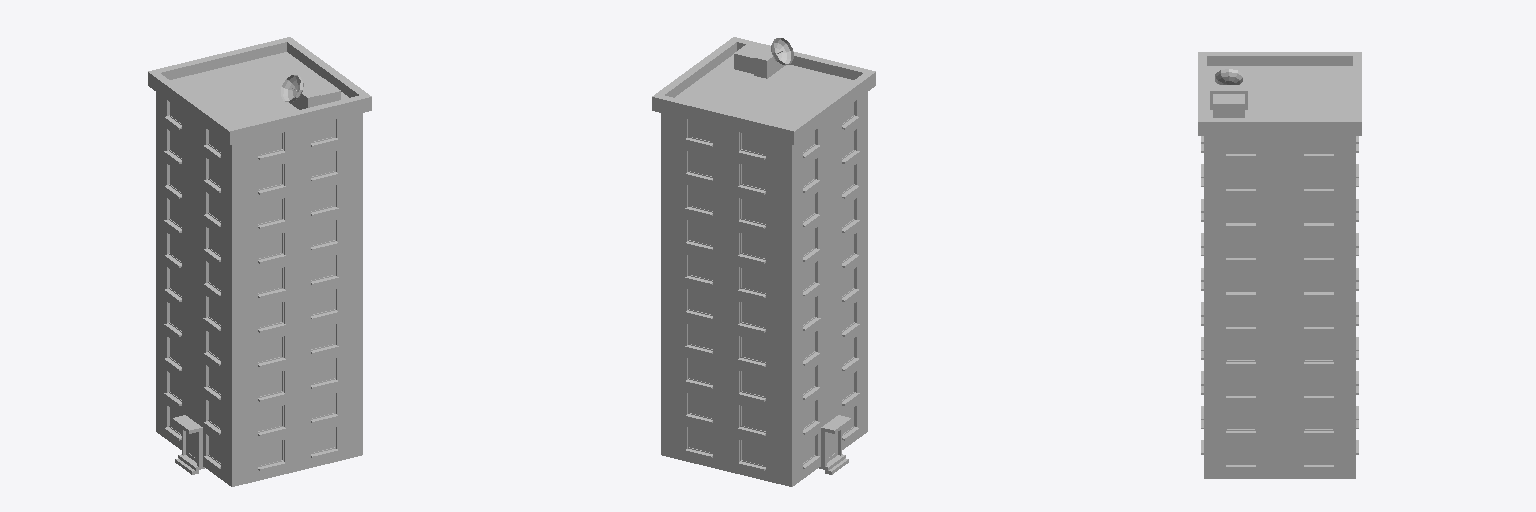
File: building.obj
The picture shows the model from 3 angles: view 1: azimuth 30°, elevation 25°; view 2: azimuth 150°, elevation 25°; view 3: azimuth 270°, elevation 25°; orthographic projection.
Parts seen in each view (by area): view 1: Condominio.001, Tetto.005, Entrata.001; view 2: Condominio.001, Tetto.005, Entrata.001; view 3: Condominio.001, Tetto.005.
Part boxes in pixels (left/top/right/bottom): Condominio.001: left=156, top=92, right=362, bottom=486; Tetto.005: left=148, top=37, right=371, bottom=144; Entrata.001: left=172, top=415, right=204, bottom=474; Condominio.001: left=661, top=92, right=867, bottom=486; Tetto.005: left=652, top=37, right=875, bottom=144; Entrata.001: left=819, top=415, right=851, bottom=474; Condominio.001: left=1201, top=136, right=1358, bottom=478; Tetto.005: left=1198, top=52, right=1361, bottom=135.
Size of the model in its own units: 12.66 by 31.39 by 11.95.